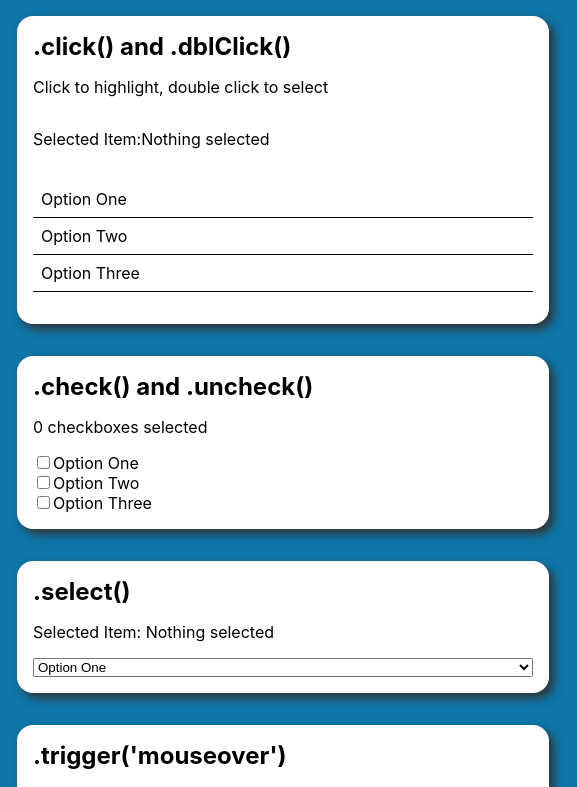
basic page interactions › shows that the number of checkboxes clicked corresponds to the # of checkboxes selected count
Check the checkbox labelled "Option One".
click(44, 463)  # box 37,456 -> 50,469
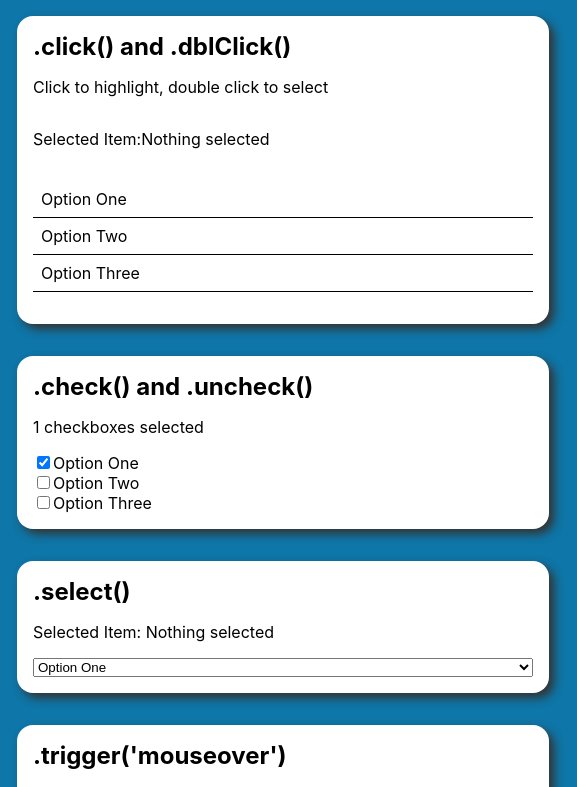
Now the text with test id "box-2-selected-count" reads "1", box 33,417 -> 40,437
